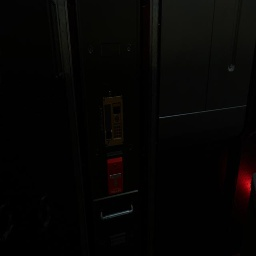EmergencyPhone ,: (99, 84, 124, 146)
FireAlarm ,: (107, 157, 123, 195)
